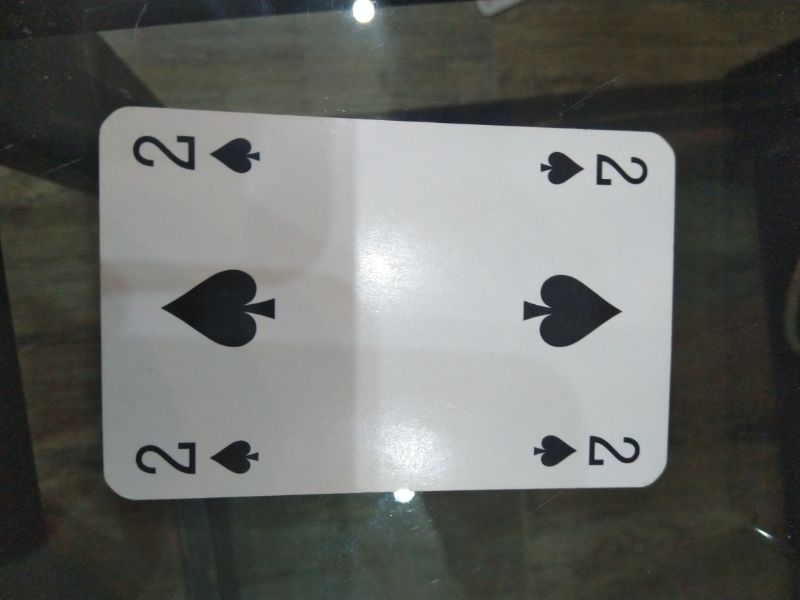2s: (118, 127, 267, 182), (130, 434, 267, 481), (530, 143, 650, 192), (526, 422, 645, 471)
